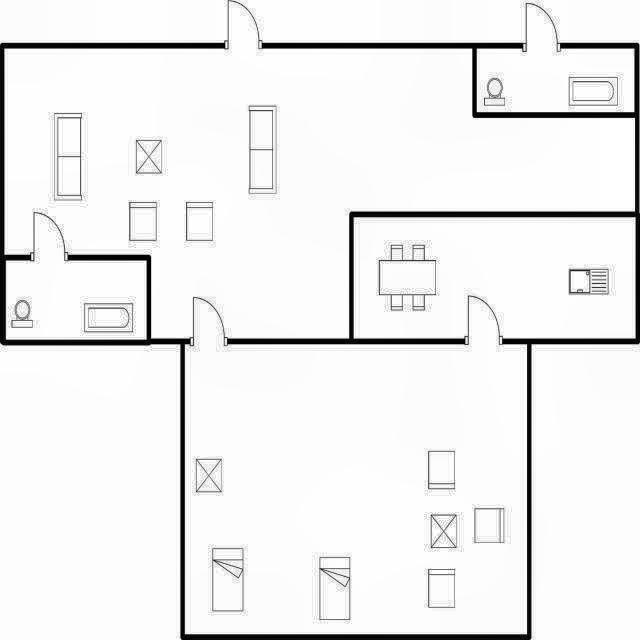room: (4, 48, 635, 339), (185, 344, 527, 634), (353, 217, 636, 338), (6, 260, 147, 340), (477, 48, 634, 113)
